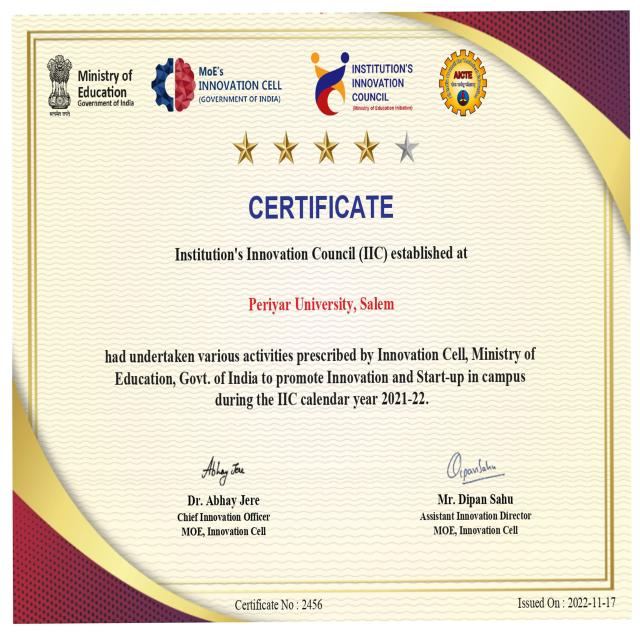signature: (443, 448, 504, 490), (198, 449, 255, 490)
stamp: (42, 50, 139, 121), (440, 48, 493, 125)
